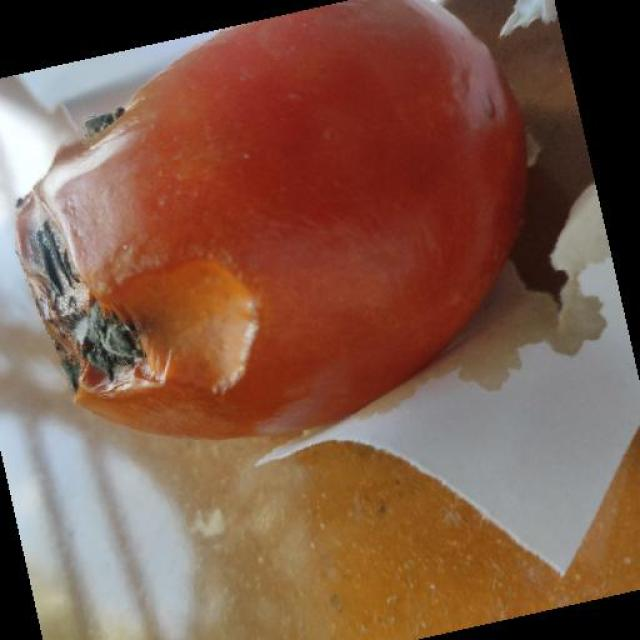Stale_tomato: (1, 6, 564, 472)
